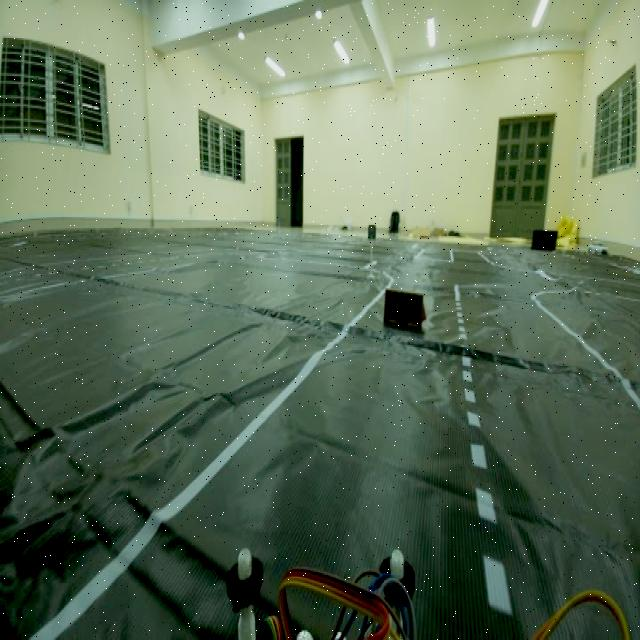roadblock: (377, 284, 429, 340)
